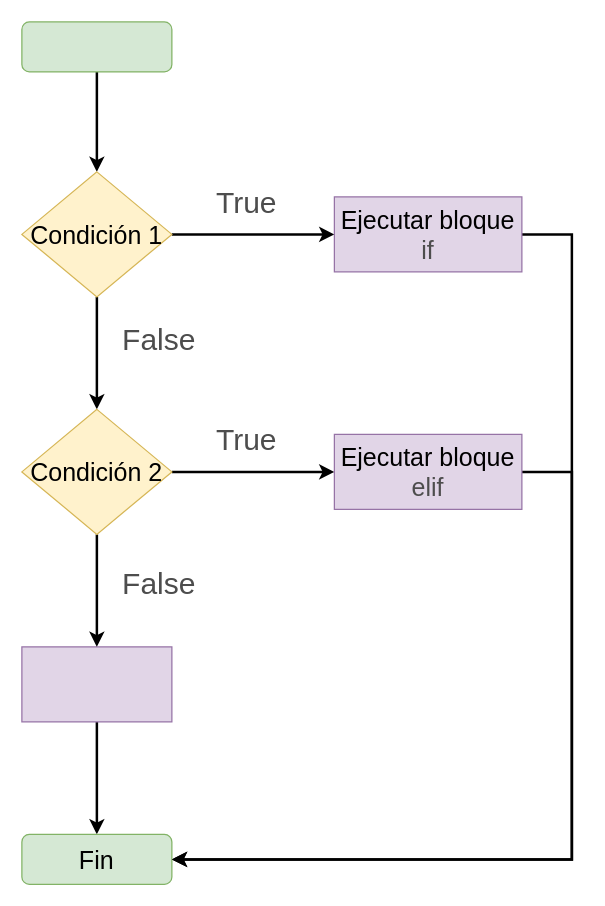
Some shapes in this 605 by 906 pixel diagram are drawn without their labels. Here are the shapes that lost their labels. From the top down, the box of each, then its label:
(21, 21, 172, 72): Inicio
(21, 646, 172, 722): Ejecutar bloque else
